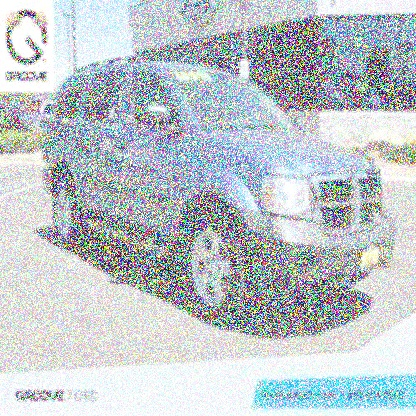Vehicle: (21, 41, 413, 364)
